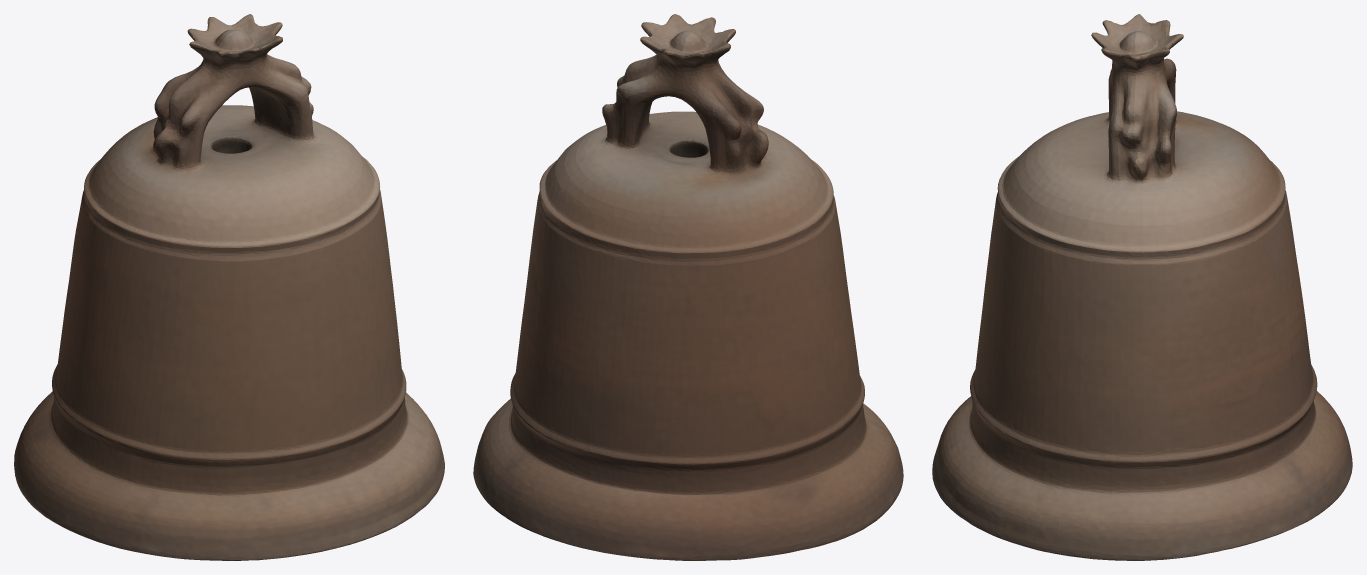
File: chuong.glb
The picture shows the model from 3 angles, left to right: view 1: azimuth 30°, elevation 25°; view 2: azimuth 150°, elevation 25°; view 3: azimuth 270°, elevation 25°; orthographic projection.
Parts seen in each view (by area): view 1: world; view 2: world; view 3: world.
Boxes of the visible parts, <box> form: world: <box>14,14,444,560</box>; world: <box>473,14,903,560</box>; world: <box>932,14,1352,560</box>.
Bounding box in the file's own units: 0.8793 × 0.997 × 0.8614.
1 material, 1 textured.
